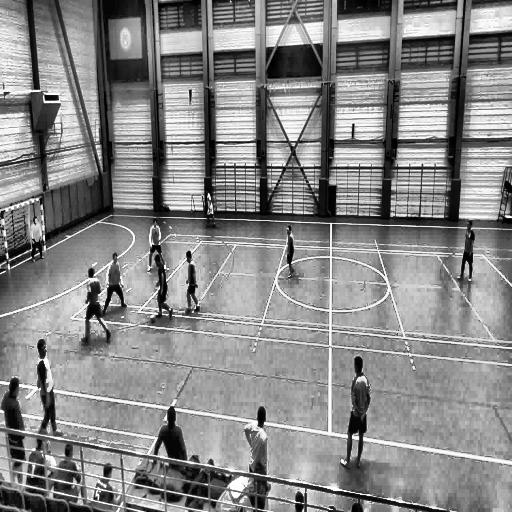ball: (151, 311, 157, 322), (290, 266, 294, 274)
player: (337, 356, 368, 472), (1, 378, 26, 486), (244, 406, 269, 512), (36, 344, 60, 437), (82, 266, 111, 342), (102, 252, 128, 316), (148, 218, 166, 274), (458, 220, 474, 283), (185, 249, 199, 315), (30, 216, 44, 261), (285, 226, 294, 280), (207, 186, 217, 226)
